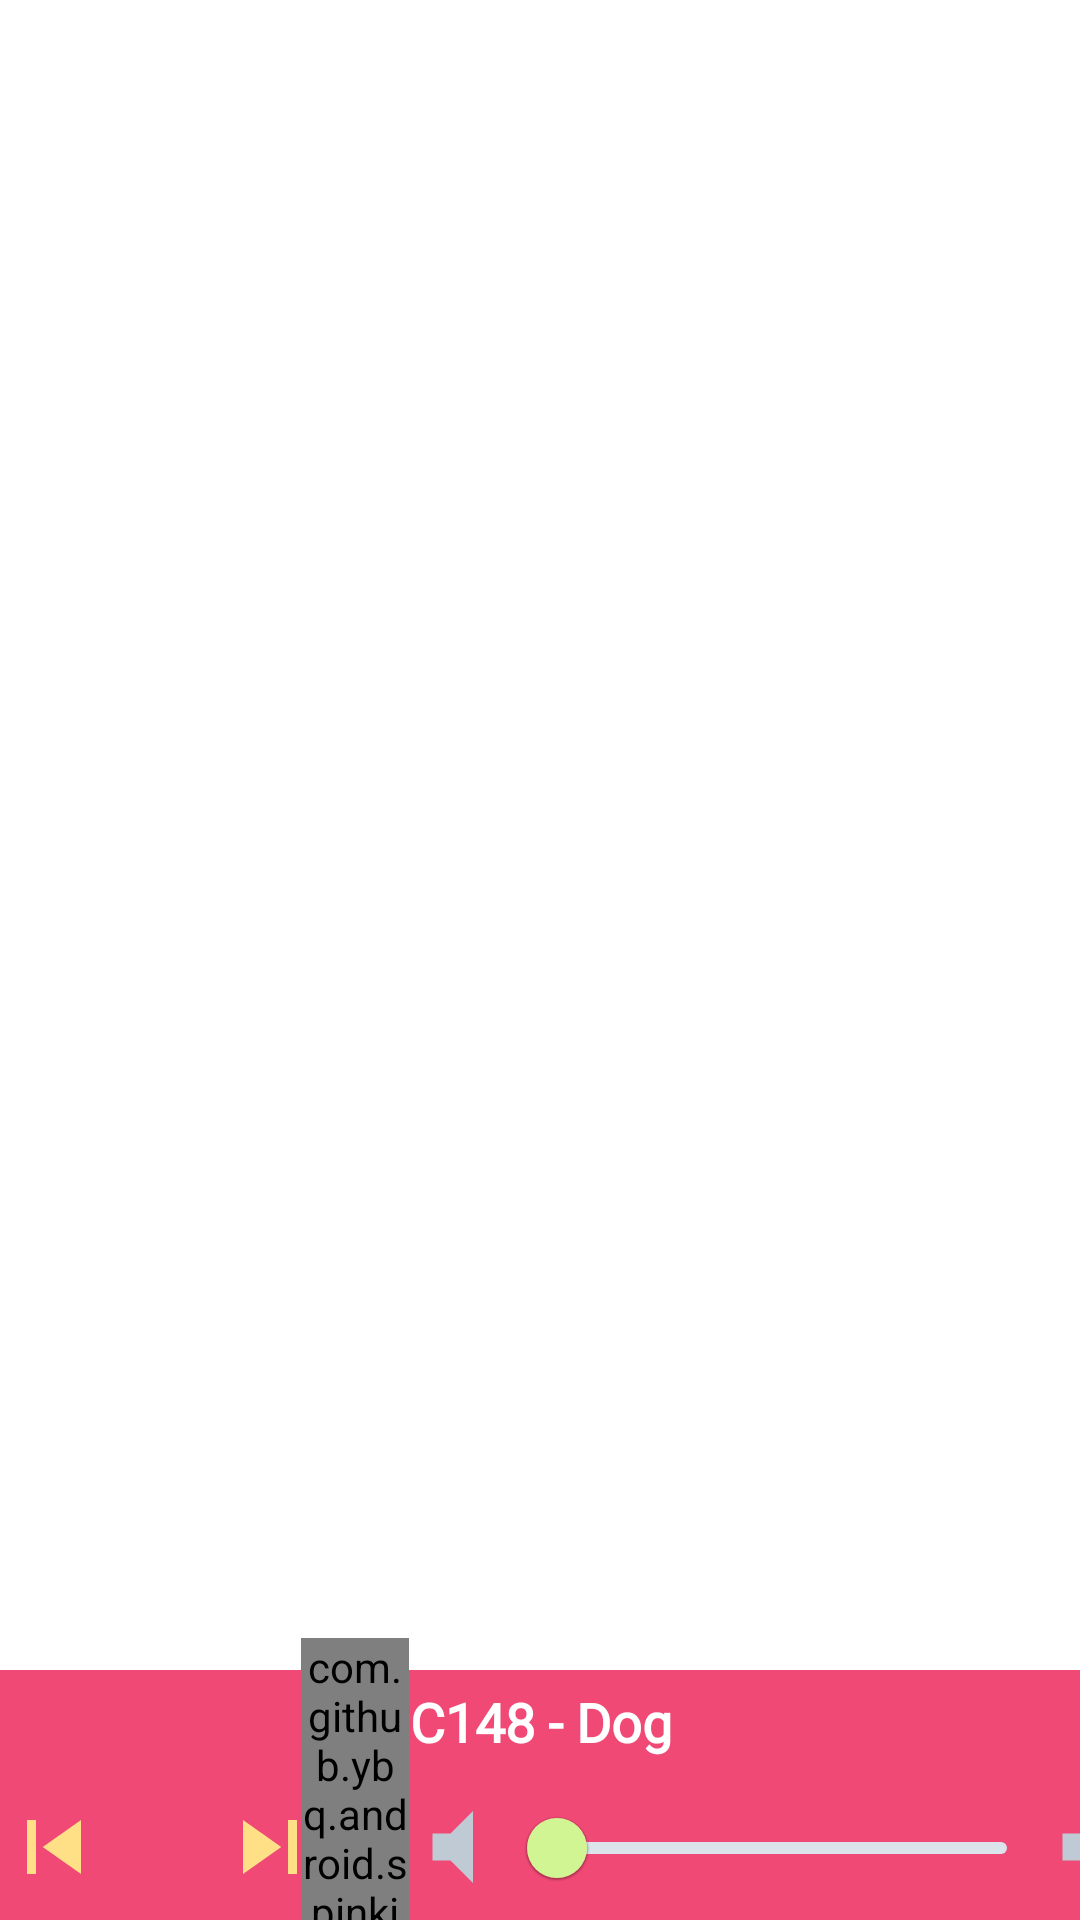

Where icons sit on this 1080 x 1920 app screen, as (x1, y1, x2, y2):
skip next: (243, 1793, 324, 1901)
skip previous: (27, 1820, 81, 1874)
volume mute: (432, 1811, 473, 1883)
